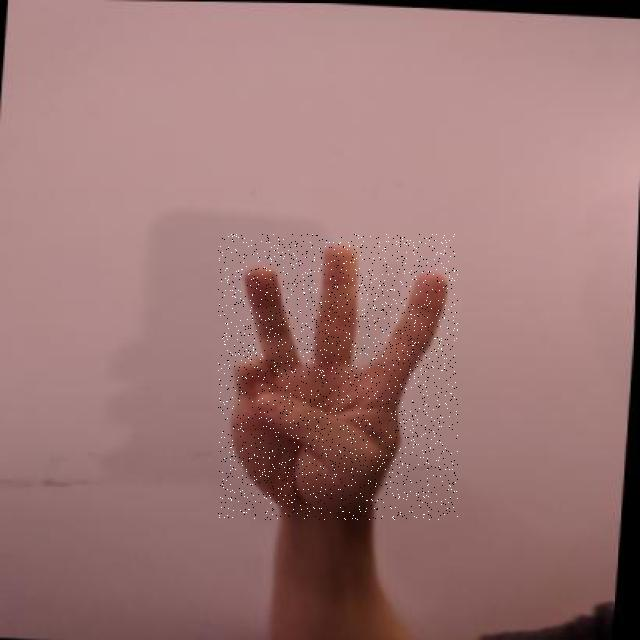W: (218, 234, 458, 520)
